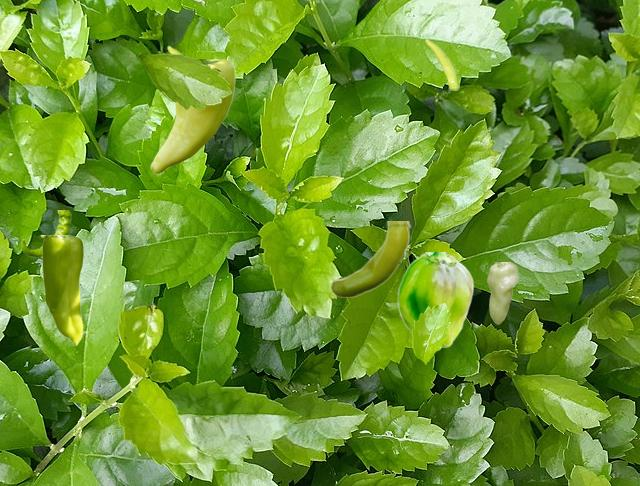green_chili: (150, 59, 234, 173), (397, 252, 473, 347), (329, 221, 410, 296), (40, 235, 82, 344), (21, 210, 70, 256), (486, 262, 517, 323), (425, 38, 458, 89), (167, 45, 181, 52)
